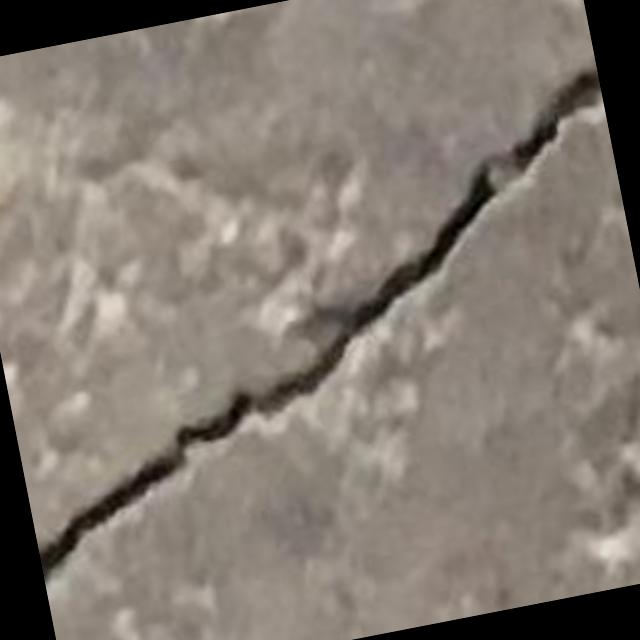crack: (88, 69, 602, 513)
